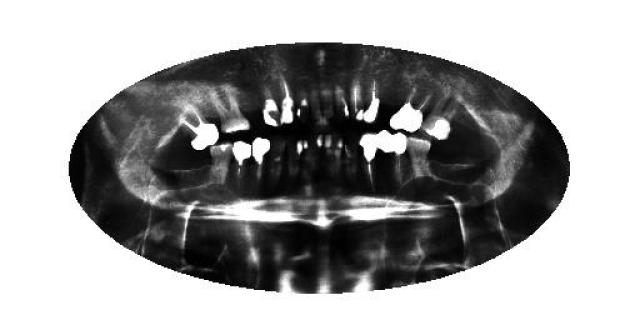Fillings: (421, 94, 461, 141), (392, 132, 408, 188), (262, 81, 280, 128), (376, 129, 394, 155)
Implant: (390, 88, 431, 134), (180, 106, 219, 152), (360, 132, 379, 194), (251, 136, 271, 189), (231, 140, 251, 191), (279, 75, 295, 125), (364, 79, 380, 125), (348, 81, 364, 122)
